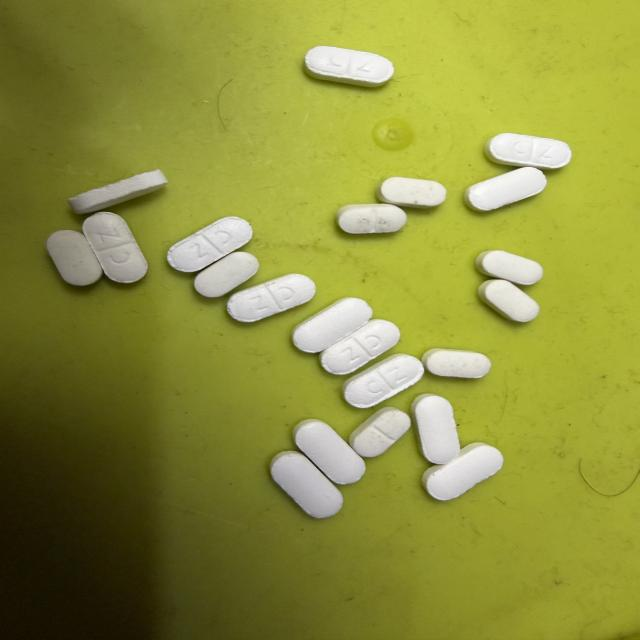pill: (271, 451, 343, 518), (167, 217, 252, 272), (293, 420, 365, 484), (423, 443, 503, 500), (83, 212, 147, 283), (292, 298, 372, 353), (320, 320, 400, 374), (343, 354, 423, 408), (69, 170, 167, 214), (227, 274, 315, 322), (465, 167, 546, 211), (305, 46, 393, 86), (412, 394, 460, 464), (47, 230, 102, 285), (485, 134, 571, 169), (349, 408, 410, 457), (195, 252, 259, 297), (478, 280, 539, 322), (476, 251, 543, 284), (377, 177, 446, 208), (337, 204, 406, 233), (422, 349, 491, 378)
